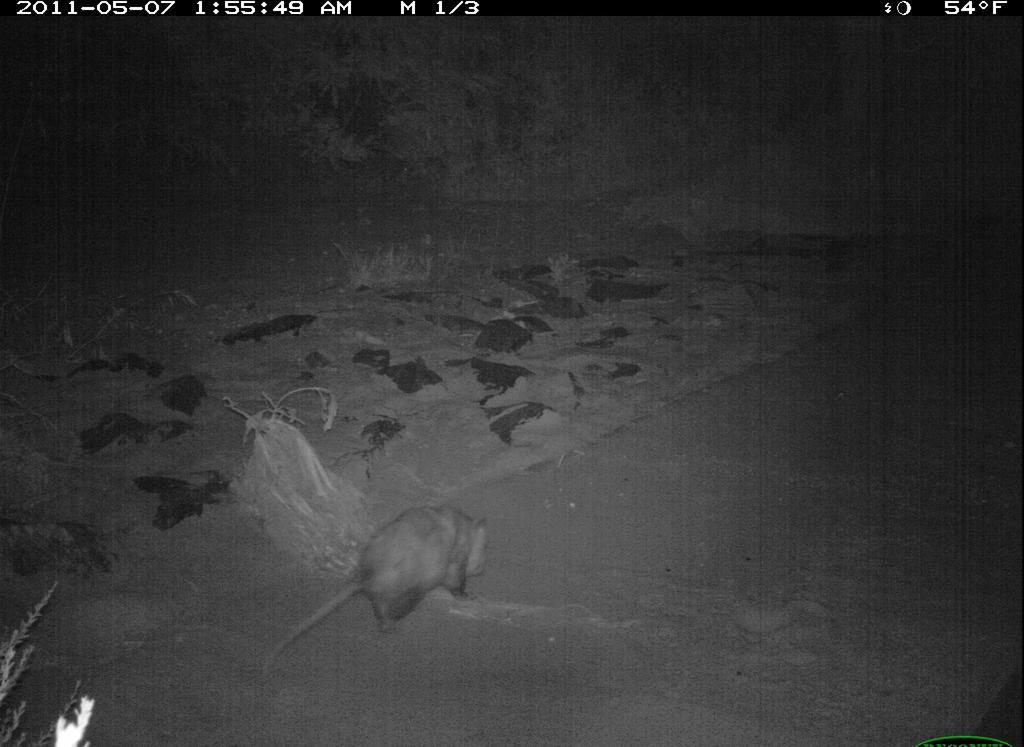opossum: (258, 502, 513, 667)
